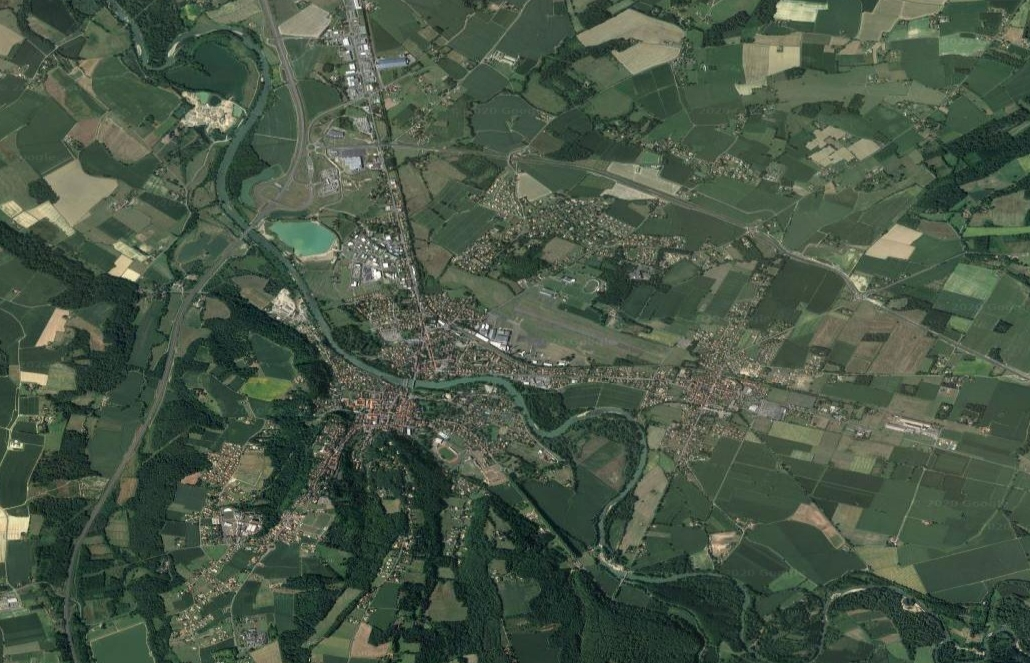airport: (506, 292, 647, 363)
motorway: (227, 192, 287, 247), (184, 246, 241, 297), (163, 296, 196, 373), (64, 523, 95, 597), (138, 372, 172, 430), (280, 51, 305, 129), (110, 429, 148, 478), (278, 130, 306, 193), (86, 476, 122, 522), (259, 1, 288, 51), (63, 598, 79, 663)
